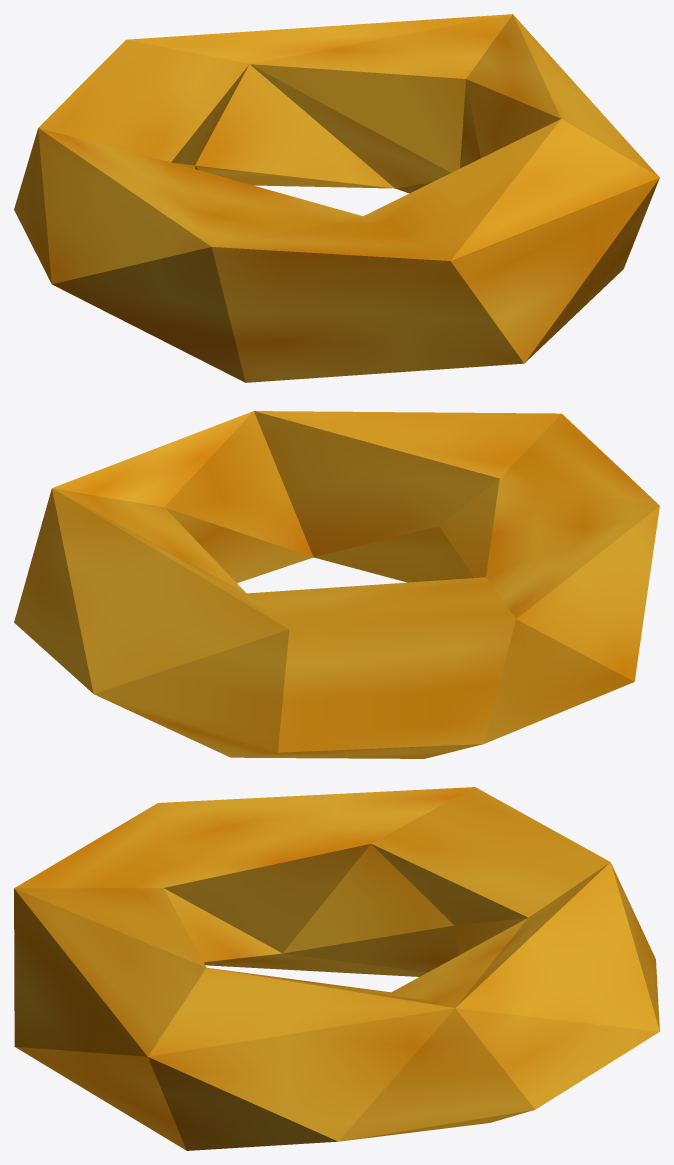
The model's file is onion_rings.obj.
3 renders of one model, top to bottom at view 1: azimuth 30°, elevation 25°; view 2: azimuth 150°, elevation 25°; view 3: azimuth 270°, elevation 25°, orthographic. The views are drawn at different scales.
Visible parts, largest first — view 1: Torus_Mesh; view 2: Torus_Mesh; view 3: Torus_Mesh.
Boxes of the visible parts, <box> form: Torus_Mesh: <box>14,14,659,382</box>; Torus_Mesh: <box>14,411,659,758</box>; Torus_Mesh: <box>14,787,659,1150</box>.
Bounding box in the file's own units: 0.0991 × 0.0278 × 0.097.
